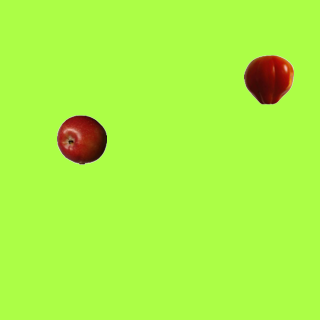Apple Braeburn: (56, 114, 106, 164)
Tomato 1: (243, 54, 293, 104)
